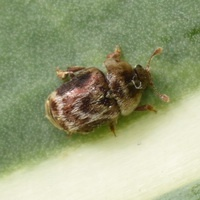insect: (45, 46, 161, 134)
